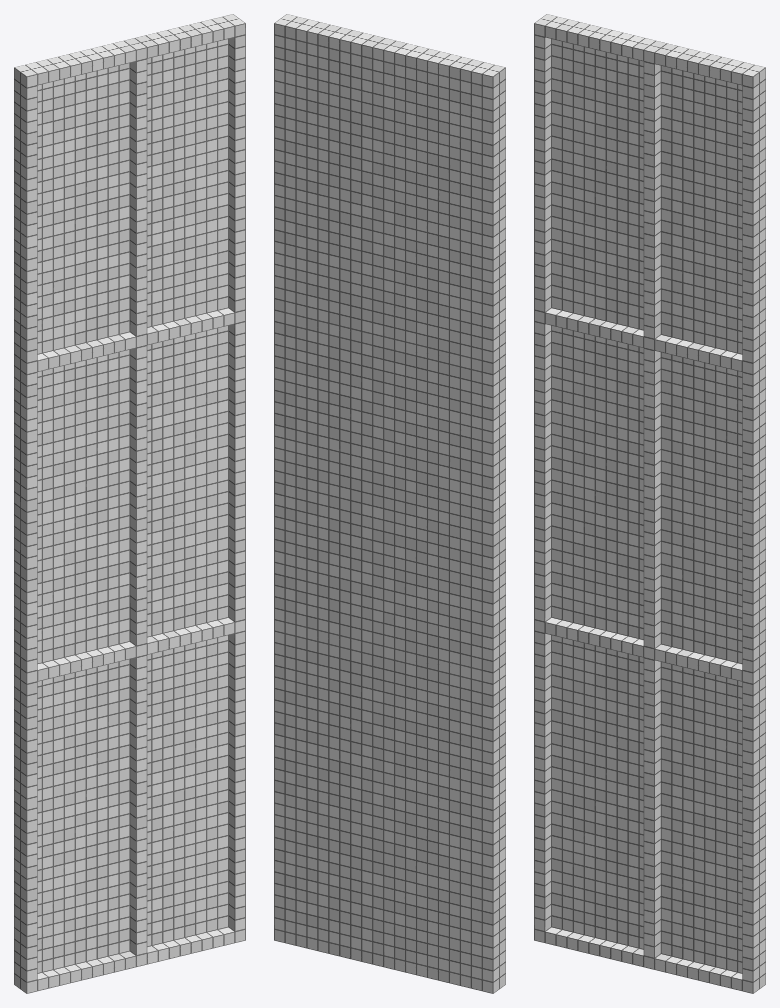
File: window_wall_panel.glb
The picture shows the model from 3 angles, left to right: view 1: azimuth 30°, elevation 25°; view 2: azimuth 150°, elevation 25°; view 3: azimuth 330°, elevation 25°; orthographic projection.
Parts seen in each view (by area): view 1: window_wall_panel; view 2: window_wall_panel; view 3: window_wall_panel.
Part boxes in pixels (x1,y1,x2,y2): window_wall_panel: [14, 14, 245, 993]; window_wall_panel: [274, 14, 505, 993]; window_wall_panel: [534, 14, 765, 993].
Bounding box in the file's own units: 1 × 4 × 0.1.
Materials: 2 (2 with a texture image).
